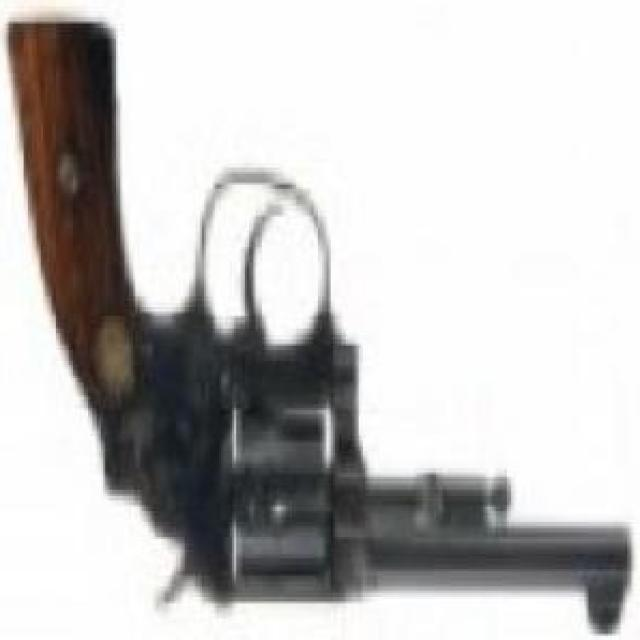pistol: (12, 16, 636, 634)
